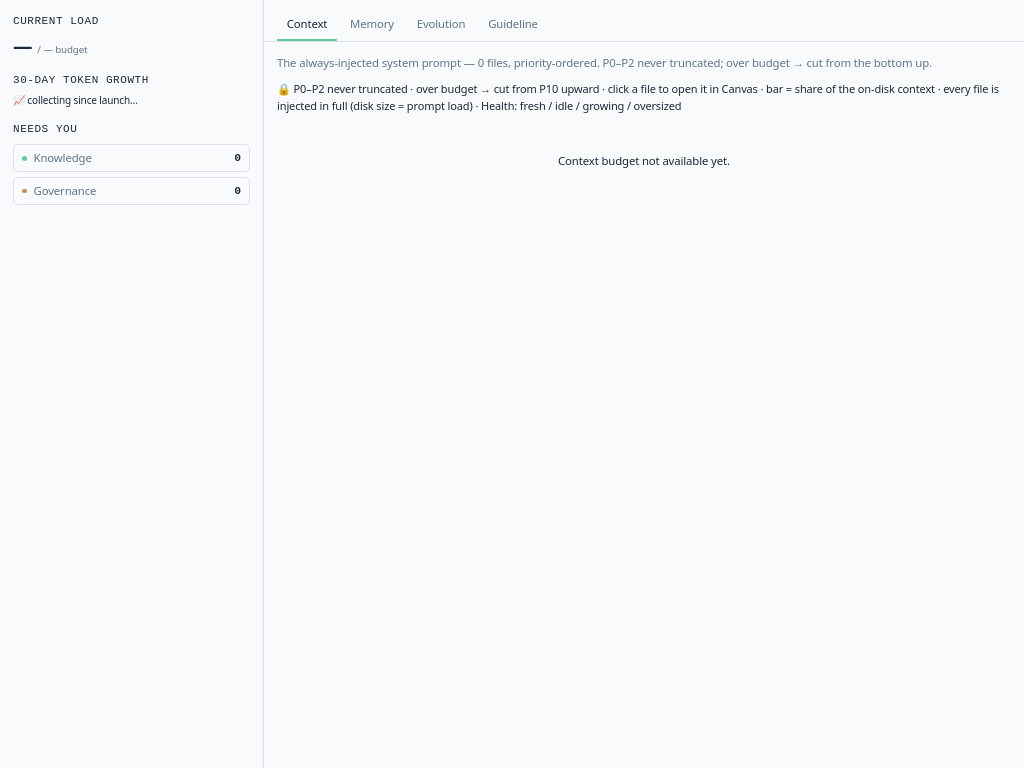
CMBrainOverlay — Memory tab (7-type graph + drill, DoD2) › renders 7 graph nodes from the backend endpoint (backend-primary)
The width and height of the screenshot is (1024, 768).
Click the button with test id "cm-tab-memory" at (372, 25), box [340,10,404,41]
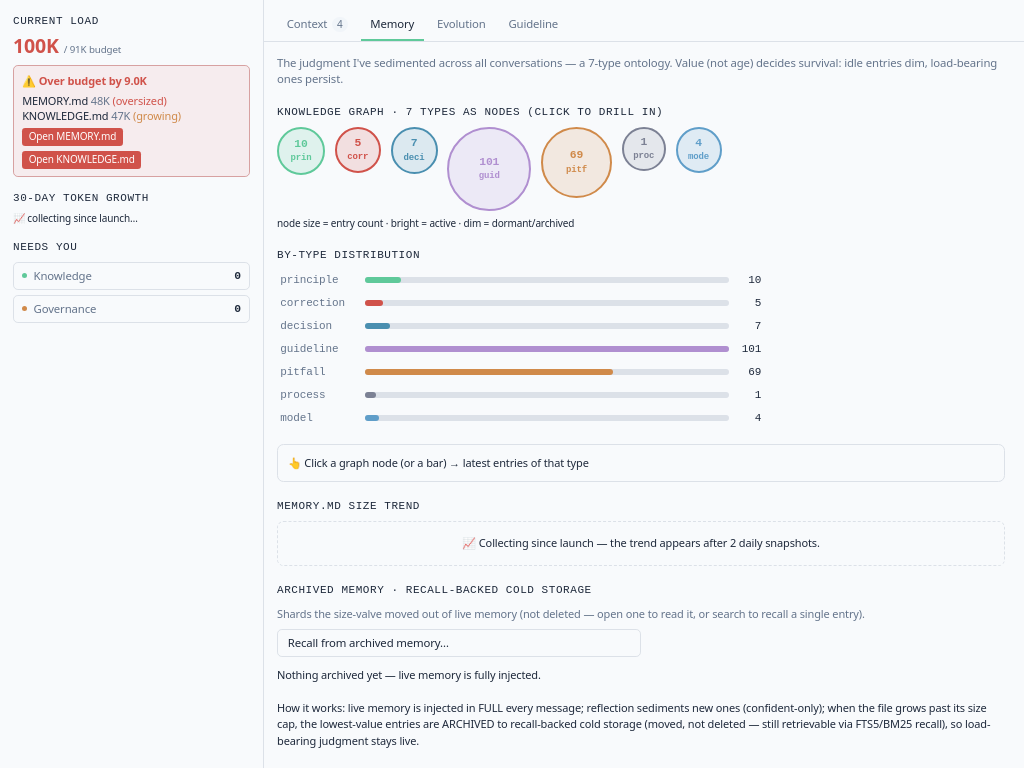
Check: the button with test id "cm-graph-node-guideline" shows "101", box [447,127,531,211]
